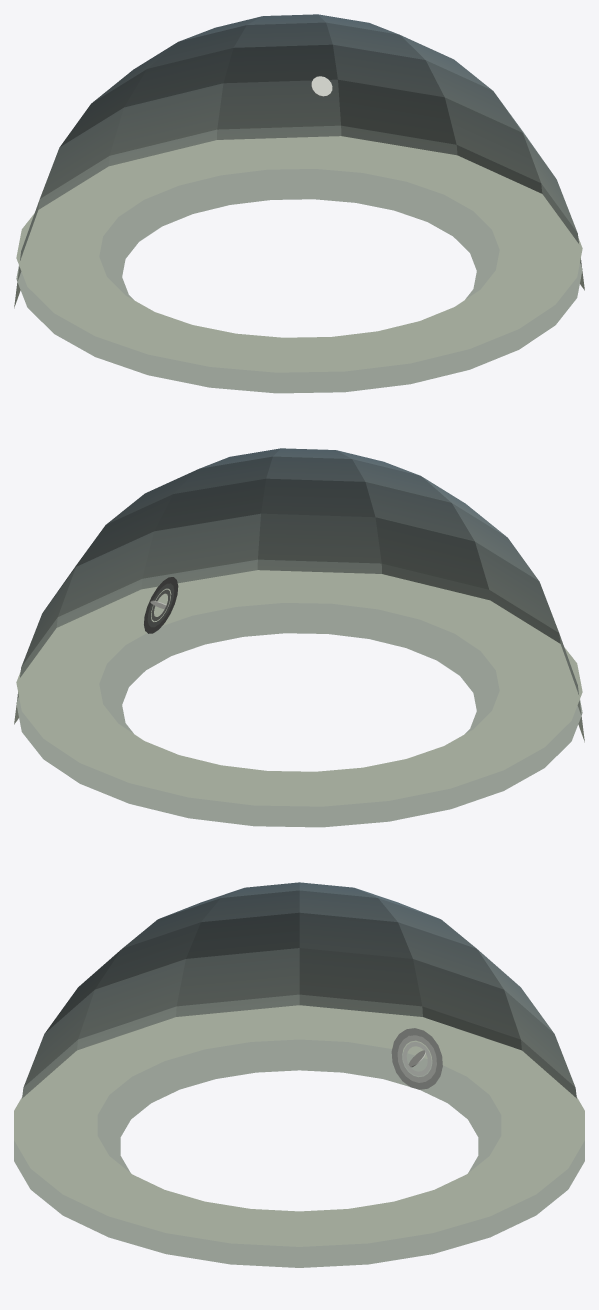
File: sky-bayou-day-dome.glb
3 views of the same model, one above another, from view 1: azimuth 30°, elevation 25°; view 2: azimuth 150°, elevation 25°; view 3: azimuth 270°, elevation 25° (orthographic).
Parts seen in each view (by area): view 1: sky_bayou_day_dome; view 2: sky_bayou_day_dome; view 3: sky_bayou_day_dome.
Boxes of the visible parts, bbox=[...] form: sky_bayou_day_dome: bbox=[14, 14, 584, 393]; sky_bayou_day_dome: bbox=[14, 448, 584, 827]; sky_bayou_day_dome: bbox=[14, 882, 584, 1267].
Size of the model in its own units: 384 by 192 by 377.
